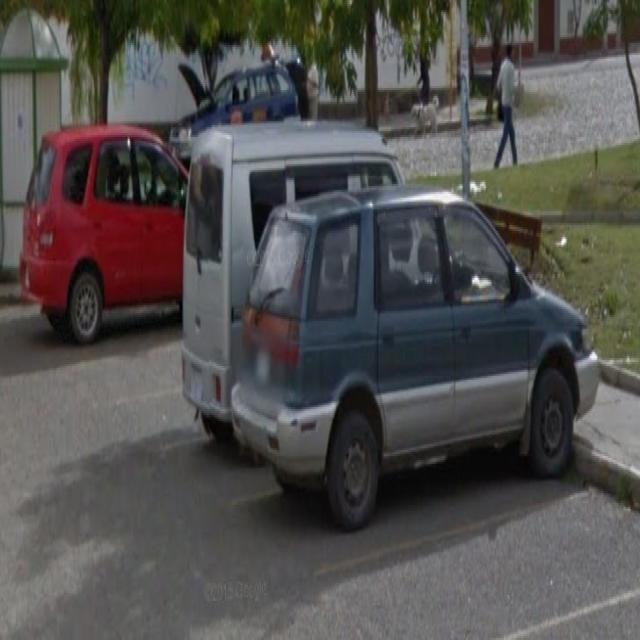Car: (270, 217, 607, 517), (23, 131, 184, 329), (194, 133, 258, 435)
